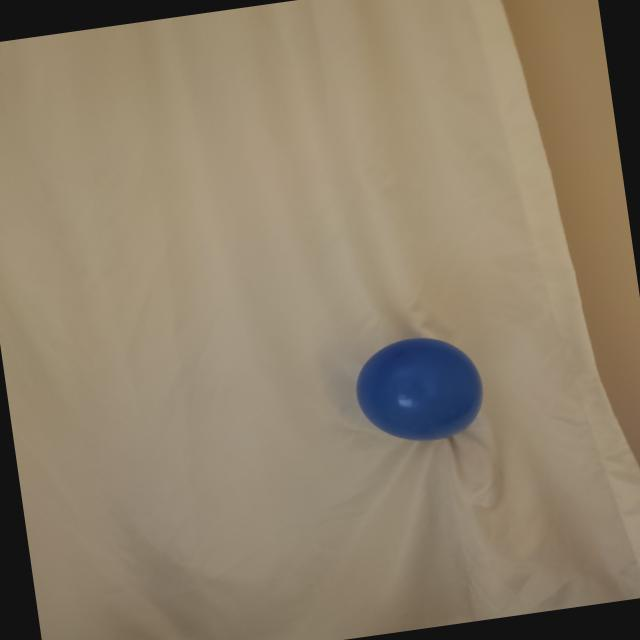balloon: (356, 338, 483, 441)
